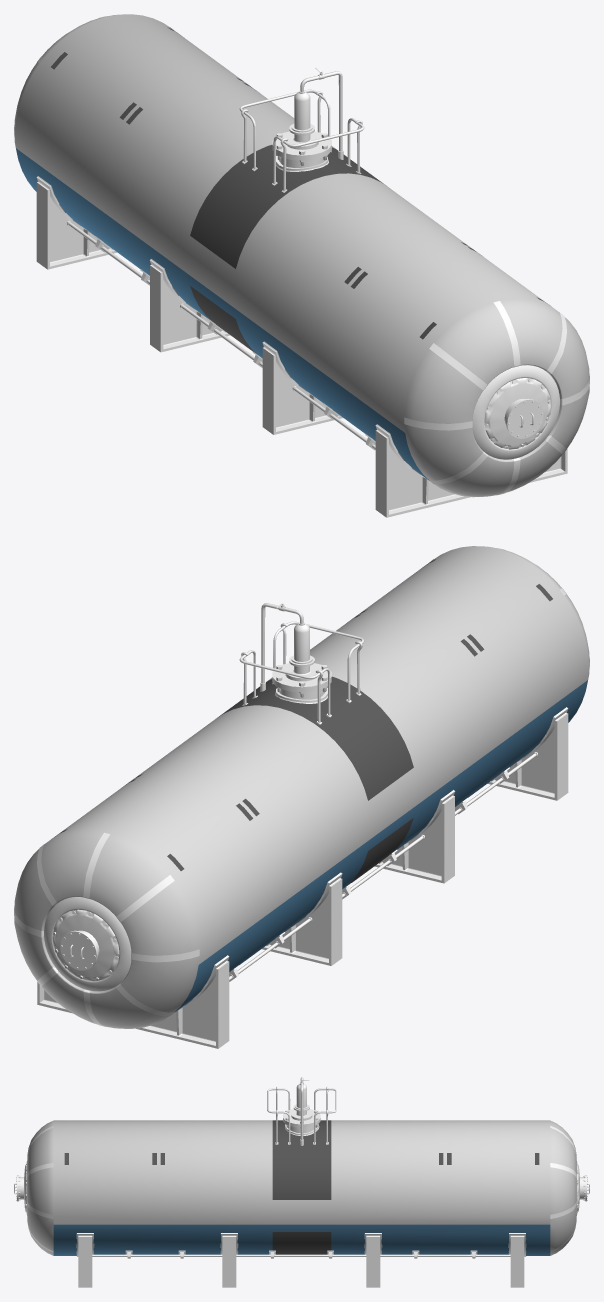
3 views of the same model, one above another, from view 1: azimuth 30°, elevation 25°; view 2: azimuth 150°, elevation 25°; view 3: azimuth 270°, elevation 25° (orthographic). The views are drawn at different scales.
Visible parts, largest first — view 1: SM_H_Industrial_Mechanical_MetalSilo_02; view 2: SM_H_Industrial_Mechanical_MetalSilo_02; view 3: SM_H_Industrial_Mechanical_MetalSilo_02.
Boxes of the visible parts, x1,y1,x2,y2 form: SM_H_Industrial_Mechanical_MetalSilo_02: [14, 14, 589, 517]; SM_H_Industrial_Mechanical_MetalSilo_02: [14, 546, 589, 1048]; SM_H_Industrial_Mechanical_MetalSilo_02: [14, 1077, 589, 1287].
Size of the model in its own units: 716 by 169 by 254.
